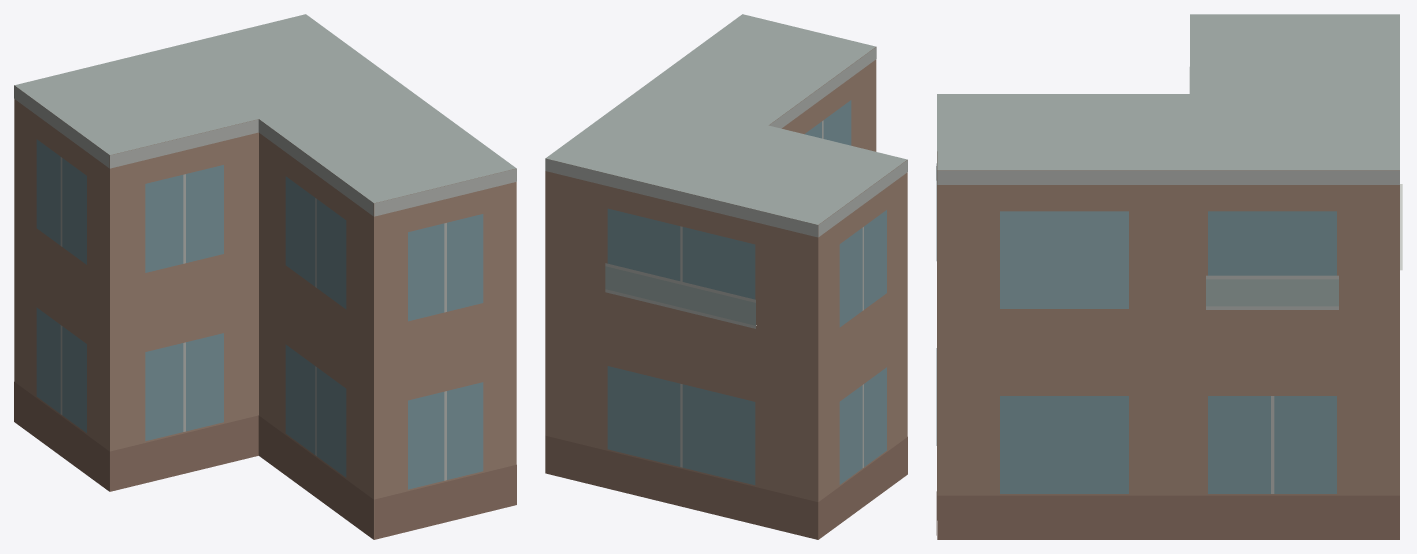
Rendered from survey-upis-32494272.glb.
The picture shows the model from 3 angles, left to right: view 1: azimuth 30°, elevation 25°; view 2: azimuth 150°, elevation 25°; view 3: azimuth 270°, elevation 25°; orthographic projection. The views are drawn at different scales.
Visible parts, largest first — view 1: survey-upis-32494272.tmp; view 2: survey-upis-32494272.tmp; view 3: survey-upis-32494272.tmp.
Boxes of the visible parts, left/top/right/bottom form: survey-upis-32494272.tmp: left=14, top=14, right=516, bottom=539; survey-upis-32494272.tmp: left=545, top=14, right=907, bottom=539; survey-upis-32494272.tmp: left=936, top=14, right=1402, bottom=539.
Size of the model in its own units: 5.58 by 6.1 by 6.98.
